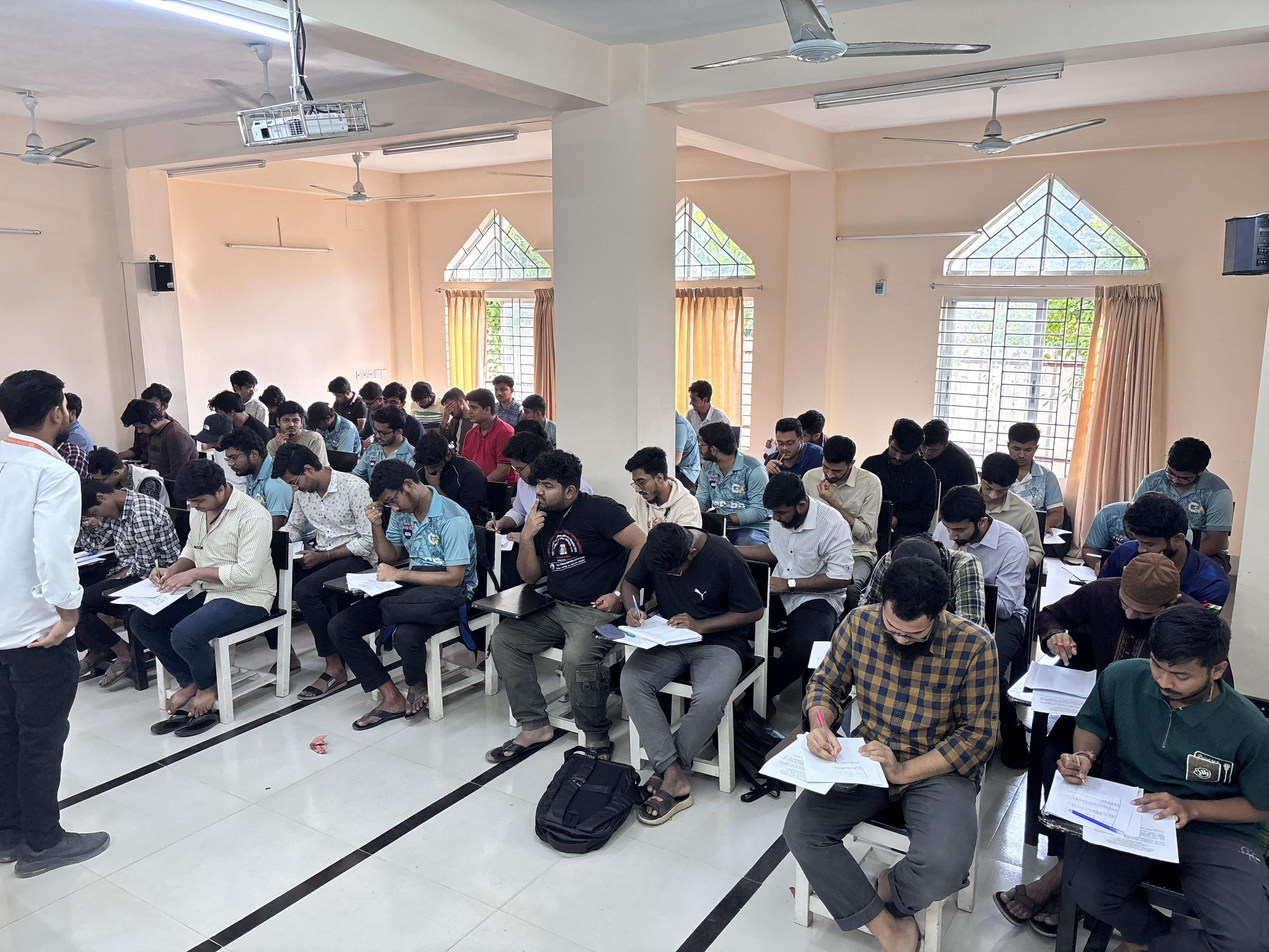copying: (693, 417, 750, 515), (688, 379, 723, 418), (227, 365, 261, 402)
invigilator: (0, 360, 99, 873)
no_cheating: (1032, 605, 1269, 952), (802, 560, 1009, 952), (510, 445, 609, 770), (346, 457, 460, 683), (609, 517, 733, 713), (161, 460, 266, 689), (266, 439, 367, 597), (70, 477, 176, 626), (755, 475, 845, 626), (1085, 541, 1204, 651), (931, 471, 1030, 601), (618, 442, 702, 558), (1112, 489, 1202, 569), (1154, 442, 1240, 522), (212, 427, 275, 510), (116, 397, 188, 466), (871, 417, 929, 502), (492, 431, 548, 517), (406, 428, 476, 493), (973, 452, 1031, 526), (816, 434, 865, 519), (80, 441, 144, 500), (360, 402, 411, 475), (921, 408, 969, 485), (769, 419, 819, 485), (465, 386, 504, 465), (1005, 419, 1058, 477), (270, 397, 318, 454), (303, 394, 347, 447), (439, 386, 467, 433), (491, 372, 520, 417), (407, 378, 435, 421)
side_talking: (510, 385, 554, 436)
